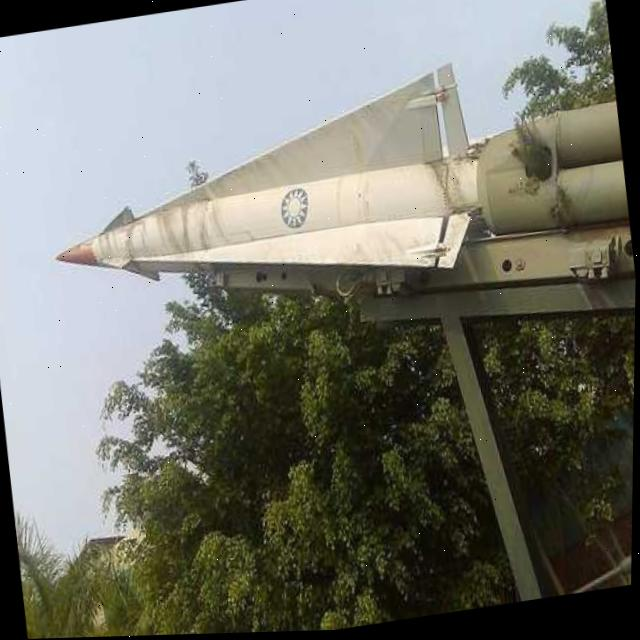missile: (43, 63, 496, 339)
